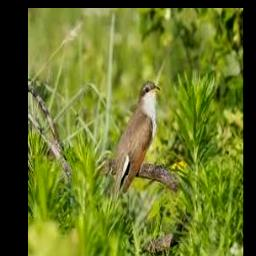Cuckoo: (111, 81, 161, 203)
